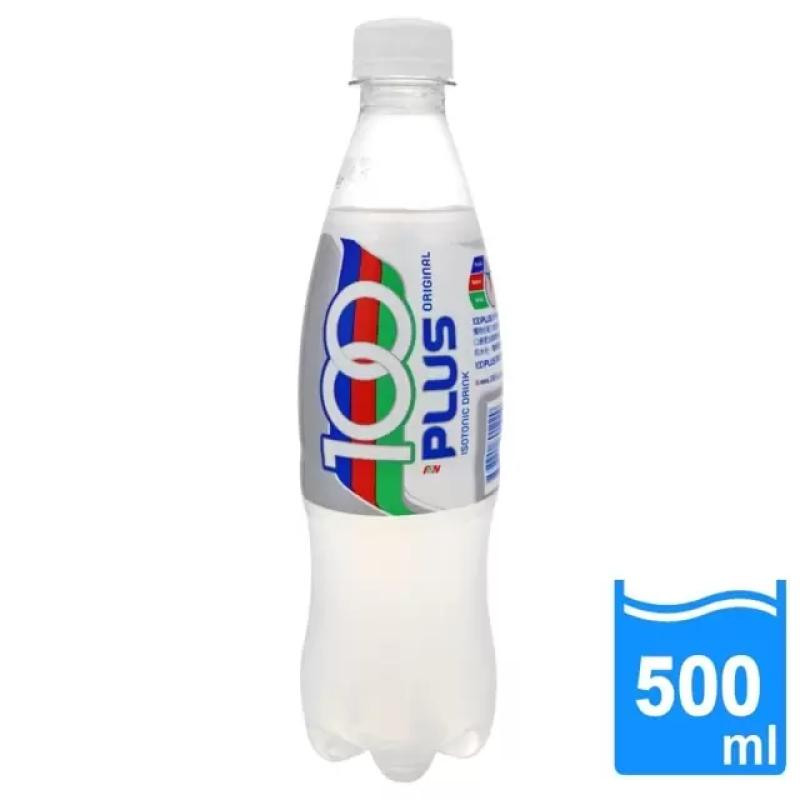botella: (298, 13, 511, 788)
